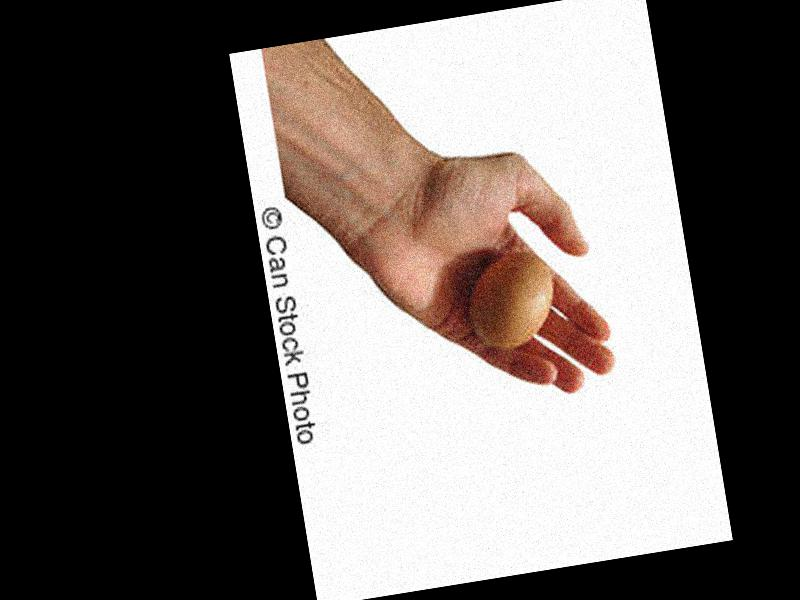Eggs: (463, 251, 558, 354)
